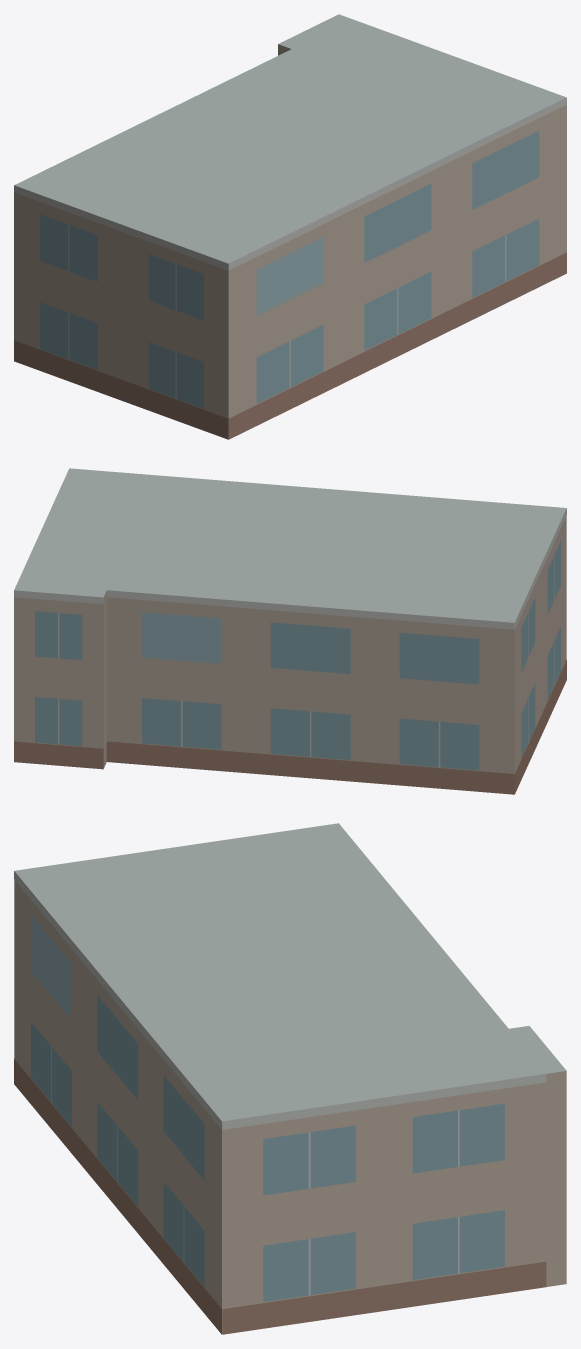
The model's file is survey-upis-32760536.glb.
The picture shows the model from 3 angles, top to bottom: view 1: azimuth 30°, elevation 25°; view 2: azimuth 150°, elevation 25°; view 3: azimuth 270°, elevation 25°; orthographic projection. The views are drawn at different scales.
Visible parts, largest first — view 1: survey-upis-32760536.tmp; view 2: survey-upis-32760536.tmp; view 3: survey-upis-32760536.tmp.
Boxes of the visible parts, x1=… form: survey-upis-32760536.tmp: x1=14, y1=14, x2=566, y2=439; survey-upis-32760536.tmp: x1=14, y1=468, x2=566, y2=794; survey-upis-32760536.tmp: x1=14, y1=823, x2=566, y2=1334.
Size of the model in its own units: 18.31 by 6.1 by 14.34.
